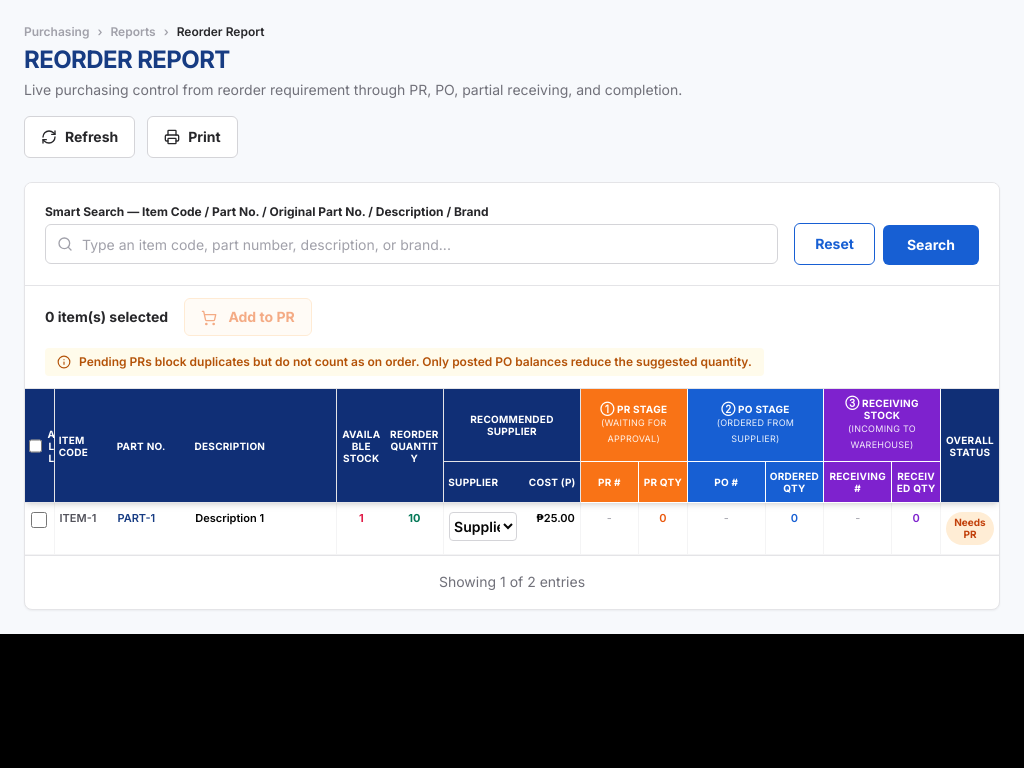
Test: ReorderReport automatic loading › selects every eligible item across all report batches
The image size is (1024, 768).
Expected: the text "ITEM-1" is shown, [54, 502, 113, 554]
Click the checkbox labelled "ALL" at (36, 446), box [29, 438, 42, 454]
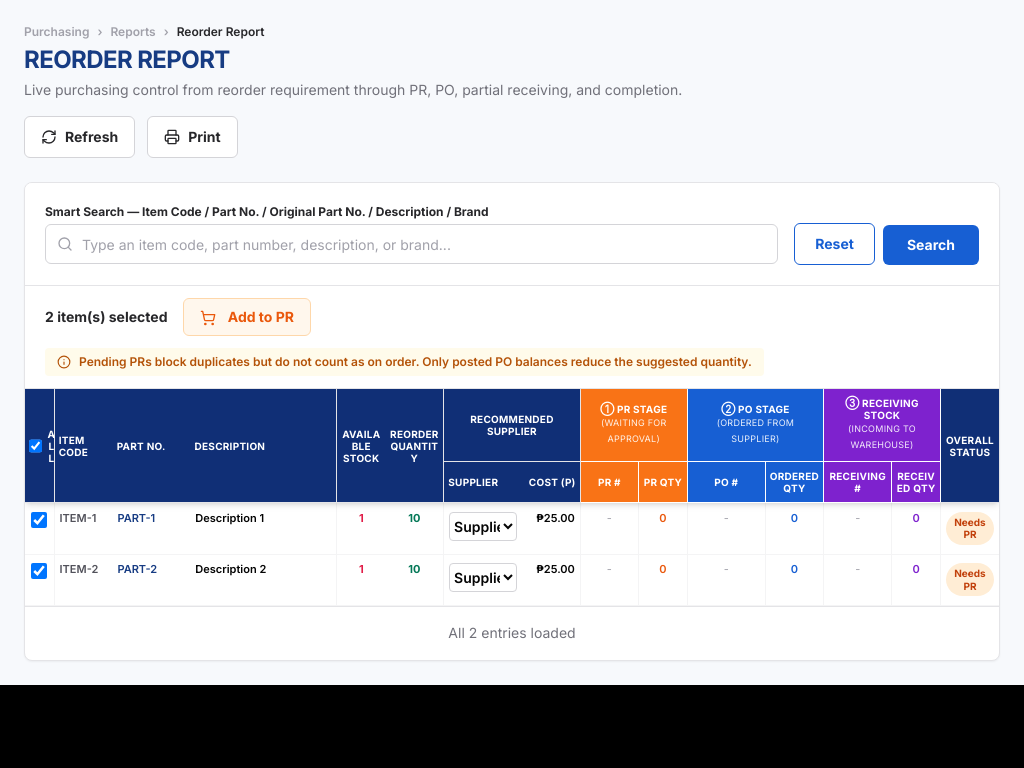
Now the checkbox named "Select ITEM-1" is checked, box [31, 512, 47, 528]
Now the checkbox named "Select ITEM-2" is checked, box [31, 563, 47, 579]
Now the text "2 item(s) selected" is shown, box [45, 307, 168, 327]
